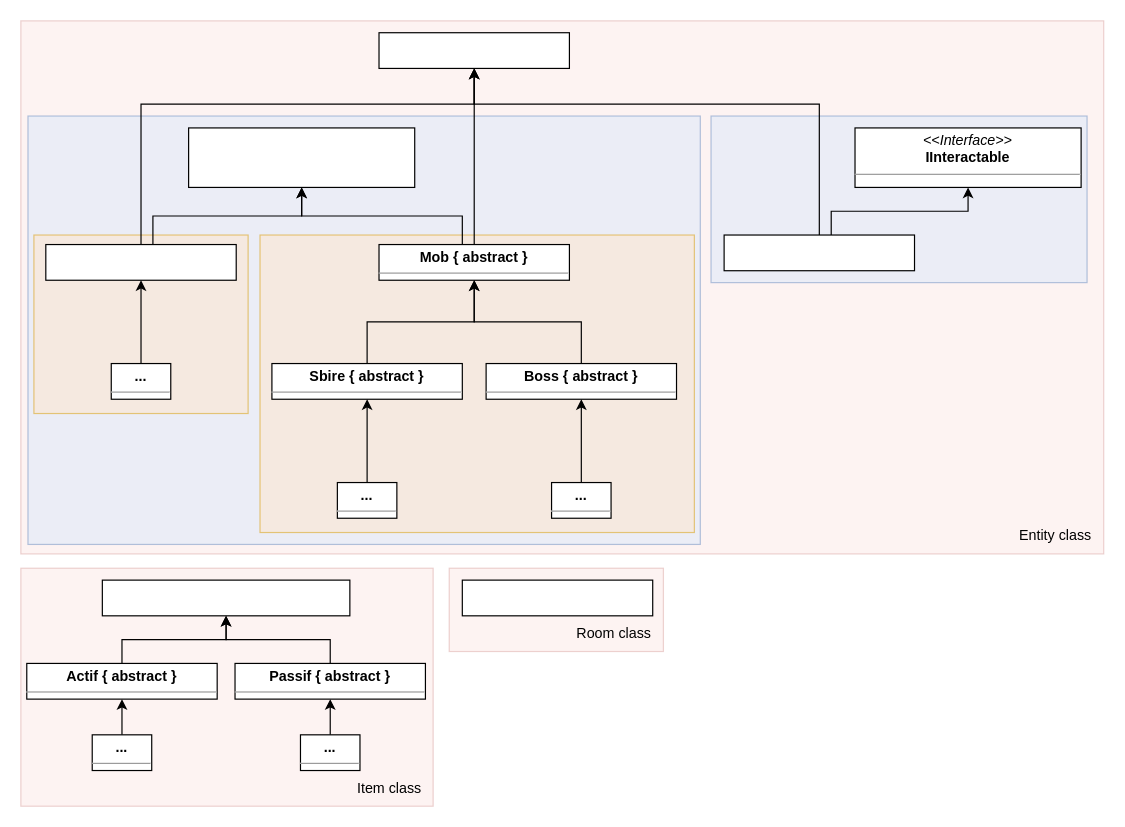
The diagram is 1125 pixels wide and 827 high, and some of its shapes have lost their labels. The centre of each missing label's shape, as x and y in pixels:
<<Interface>> IDamageable: the point at 301,157
Entity { abstract }: the point at 473,50
Héro { abstract }: the point at 140,261
Item : ScriptableObject { abstract }: the point at 225,597
NPC: the point at 819,252
Room: the point at 557,597
